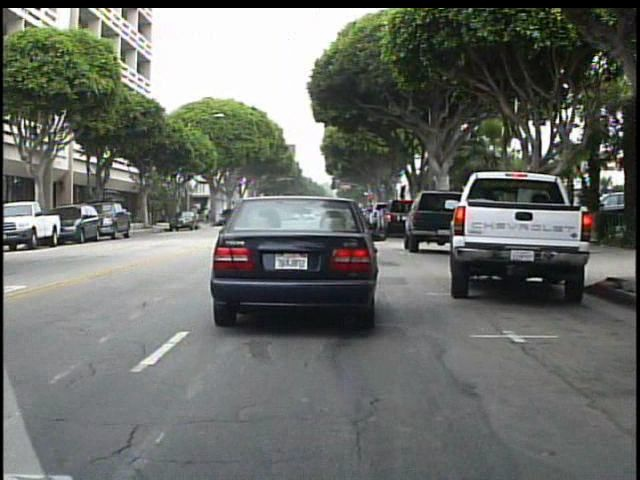person: (203, 204, 214, 228)
